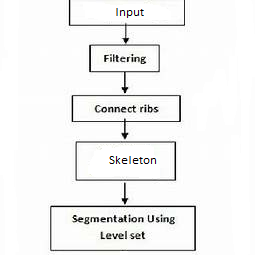arrow: (120, 23, 131, 45), (120, 181, 129, 205), (120, 117, 129, 140), (121, 71, 129, 95)
process: (48, 205, 199, 253), (74, 140, 178, 183), (70, 94, 183, 123), (68, 1, 187, 27), (88, 42, 161, 73)
text: (71, 213, 177, 240), (94, 103, 159, 114), (103, 52, 149, 66), (108, 154, 157, 166), (115, 7, 145, 20)
